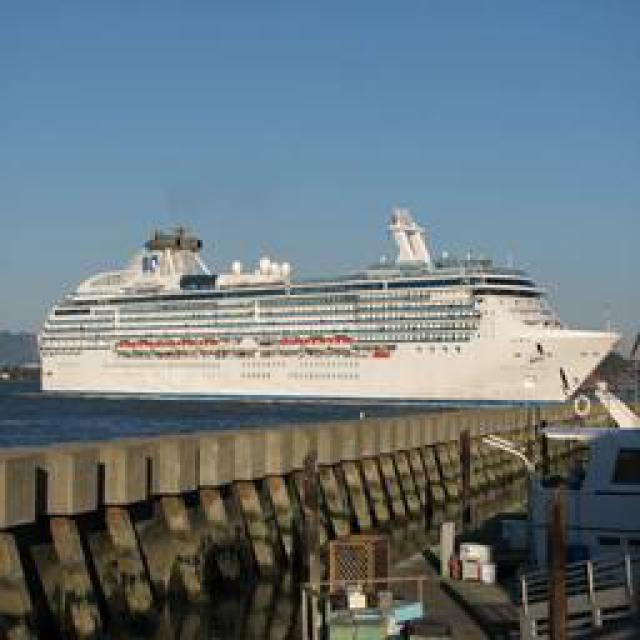Ship: (24, 221, 619, 408)
